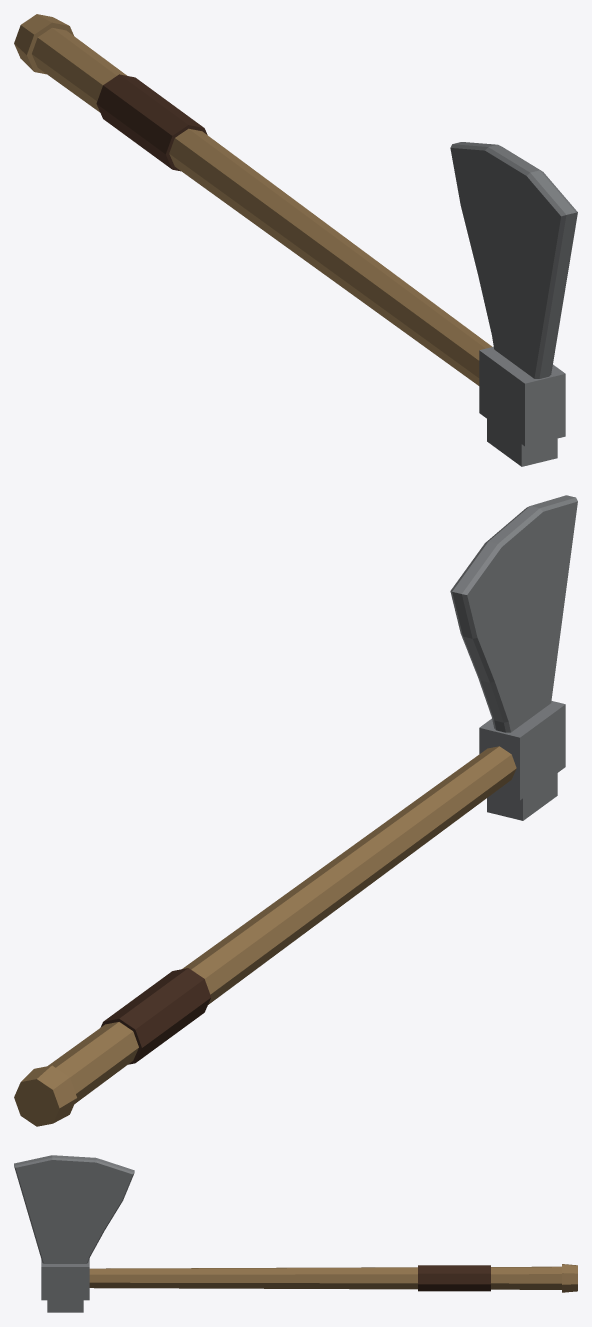
Rendered from f1_oekse.glb.
3 renders of one model, top to bottom at view 1: azimuth 30°, elevation 25°; view 2: azimuth 150°, elevation 25°; view 3: azimuth 270°, elevation 25°, orthographic. The views are drawn at different scales.
Parts seen in each view (by area): view 1: F_okse; view 2: F_okse; view 3: F_okse.
Part boxes in pixels (x1,y1,x2,y2): F_okse: [14, 14, 577, 466]; F_okse: [14, 495, 577, 1126]; F_okse: [14, 1155, 577, 1312].
Bounding box in the file's own units: 0.042 × 0.229 × 0.7714.
